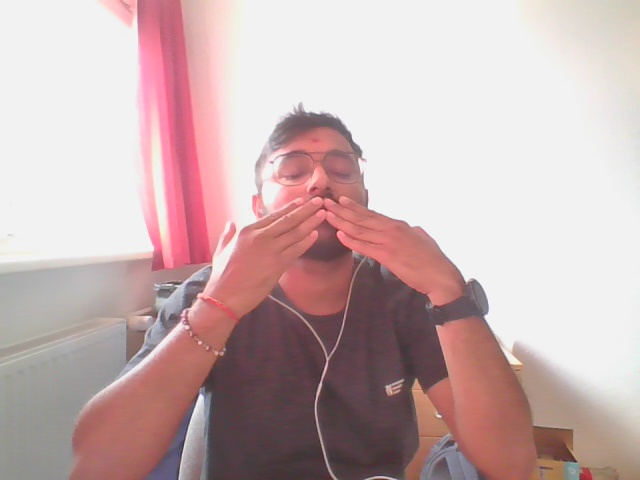ThankYou: (201, 196, 460, 302)
